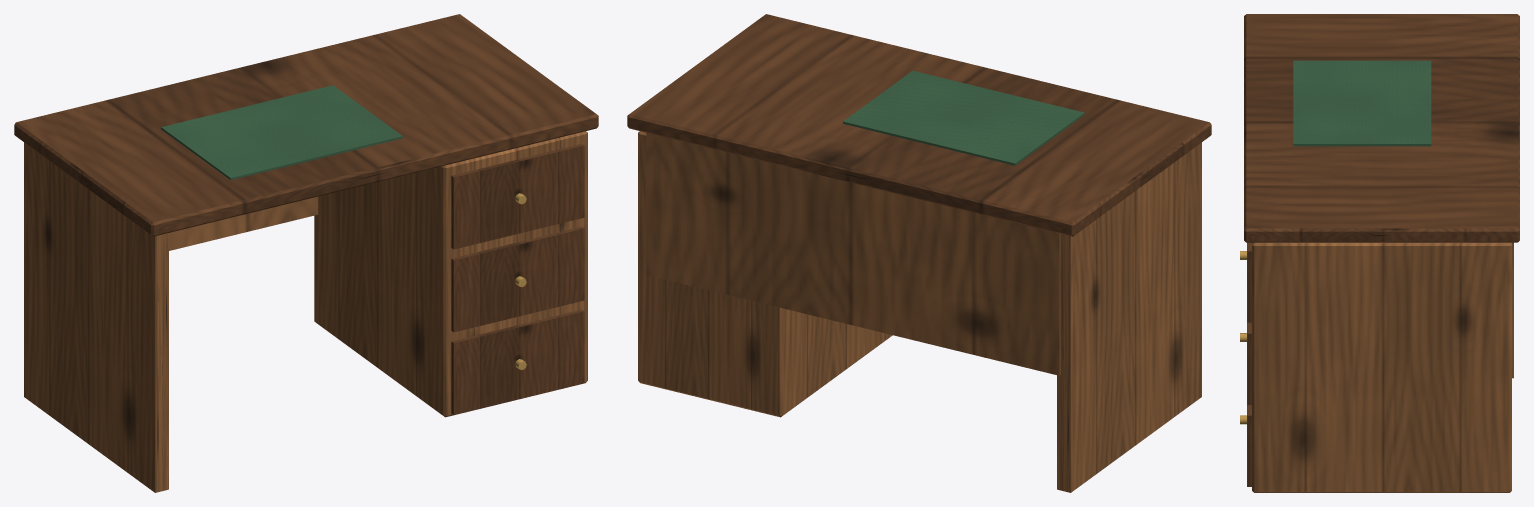
File: OB_Biurko.fbx
3 renders of one model, left to right at view 1: azimuth 30°, elevation 25°; view 2: azimuth 150°, elevation 25°; view 3: azimuth 270°, elevation 25°, orthographic.
Parts seen in each view (by area): view 1: Biurko; view 2: Biurko; view 3: Biurko.
Boxes of the visible parts, x1,y1,x2,y2 form: Biurko: (14, 14, 598, 492); Biurko: (627, 14, 1211, 492); Biurko: (1240, 14, 1519, 492).
Size of the model in its own units: 1.3 by 0.766 by 0.71.
